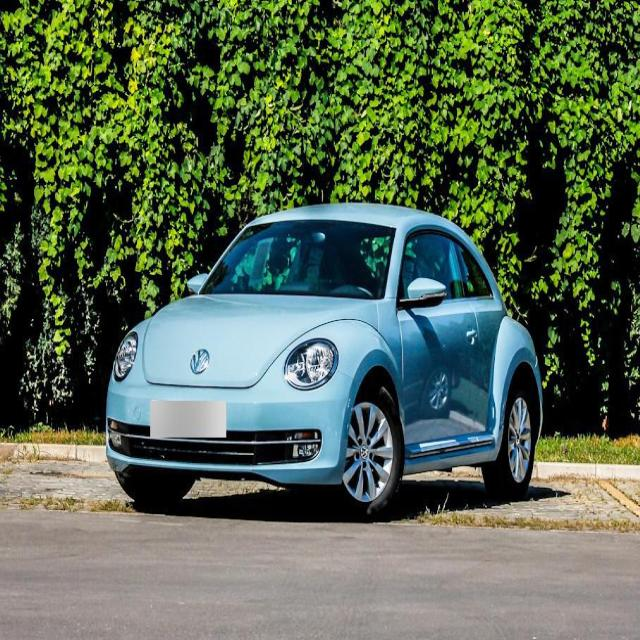front_bumper: (105, 364, 359, 485)
front_glass: (199, 218, 396, 300)
front_left_side_door: (394, 221, 484, 461)
front_left_side_light: (284, 336, 339, 392)
front_left_side_mirror: (404, 277, 447, 309)
front_right_side_light: (111, 328, 139, 382)
front_right_side_mirror: (183, 273, 207, 296)
wheel: (335, 382, 402, 516), (482, 381, 534, 500)
